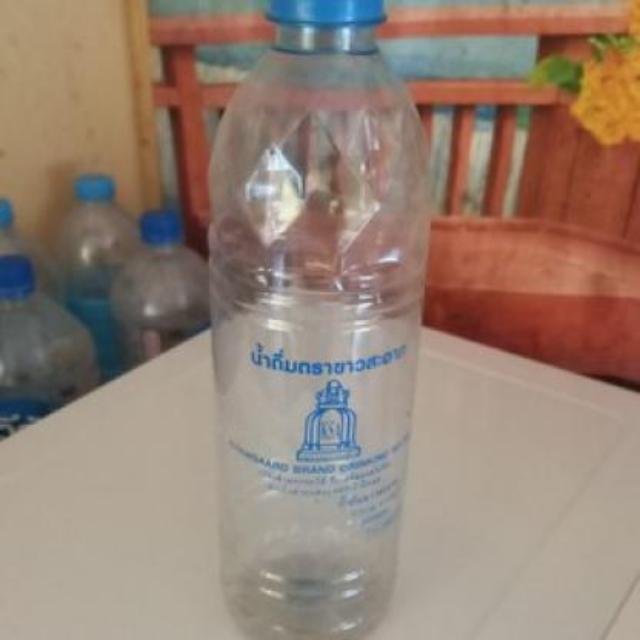bottle: (196, 0, 445, 638), (104, 206, 240, 630), (0, 230, 110, 638), (0, 184, 84, 638), (8, 165, 92, 543)
